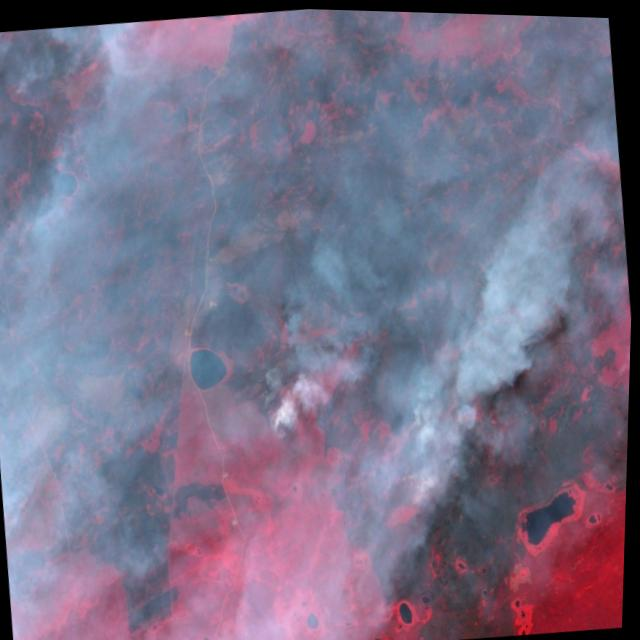fire: (0, 18, 134, 111), (369, 404, 451, 540), (238, 367, 308, 459)
